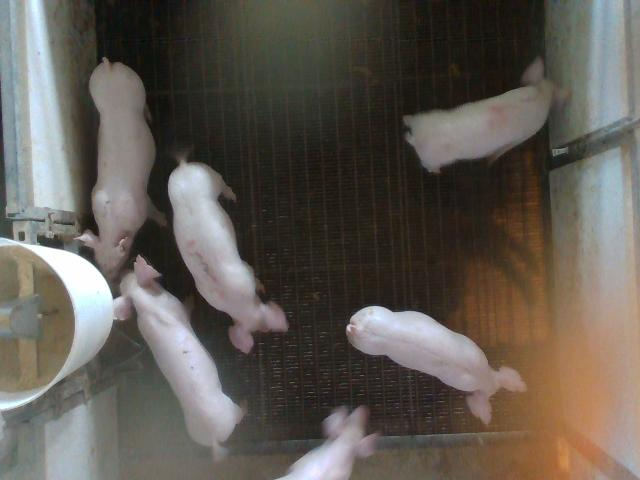pig-3: (168, 161, 288, 352)
pig-4: (404, 58, 568, 172)
